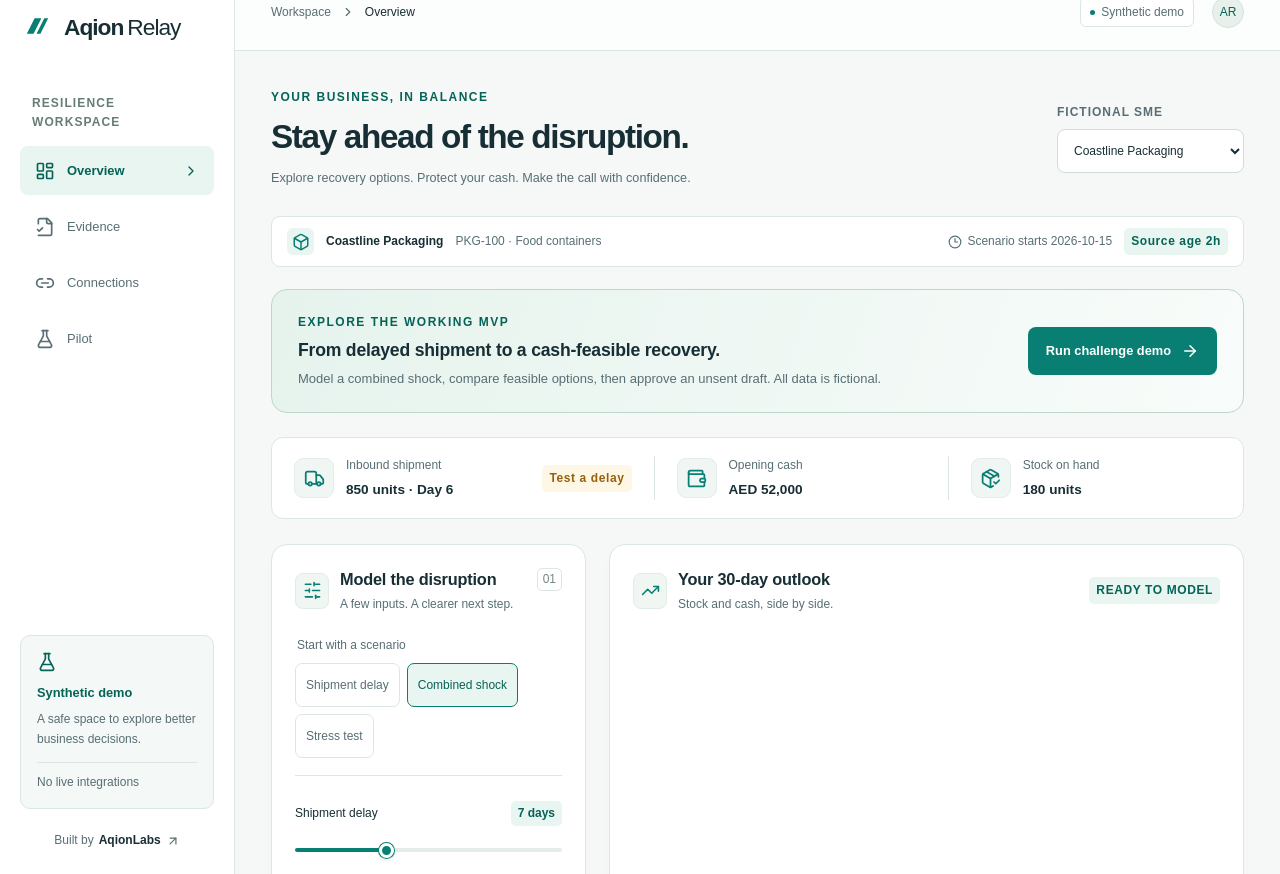
Test: shows newest recovery actions first in readable business language
Expected: the heading "Stay ahead of the disruption." is shown, [271,118,691,156]
Step 1. Click the button "Evidence" → (117, 227), box [20,202,214,251]
(page scrolled)
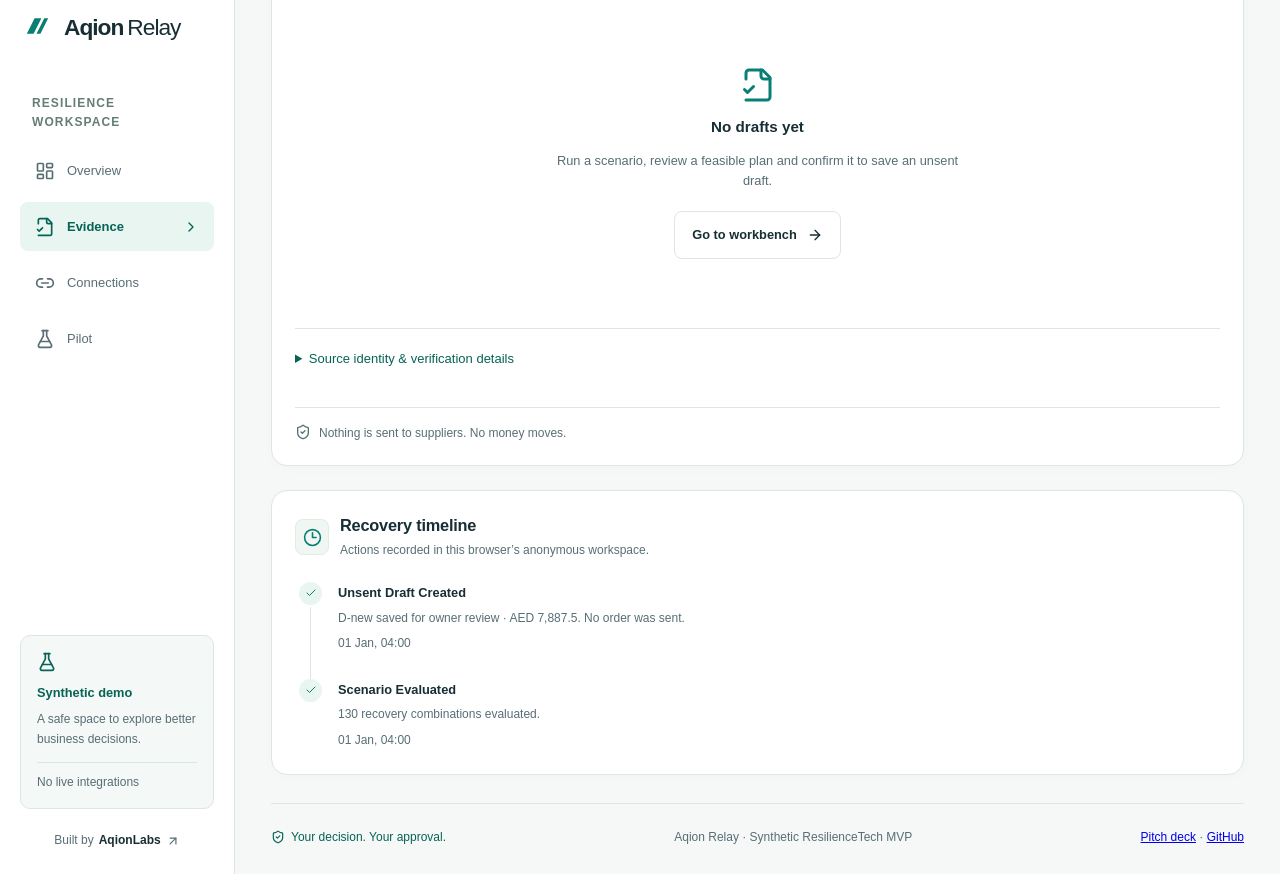
Expected: the list does not show "internal-hash", [299,582,685,747]
Expected: the list item that starts with "Unsent draft created" is shown, [338,585,466,600]
Expected: the text "130 recovery combinations evaluated." is shown, [338,706,540,724]
